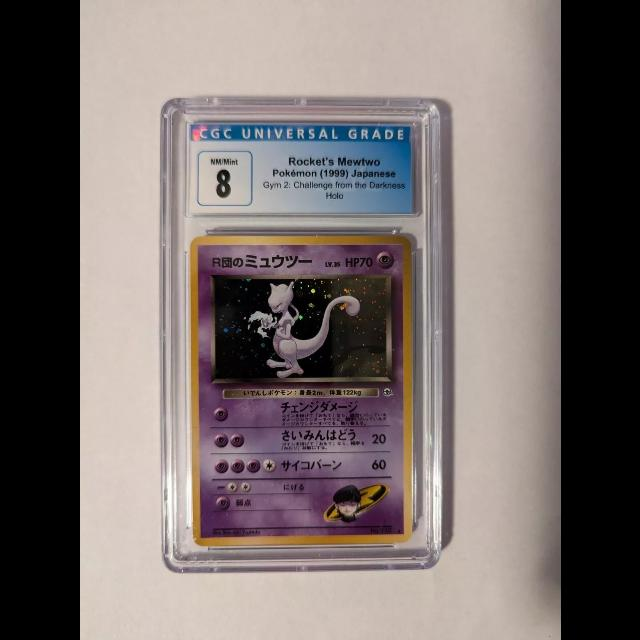card: (188, 234, 413, 547)
cgc_label_old: (188, 123, 413, 214)
cgc_slab: (160, 98, 441, 573)
